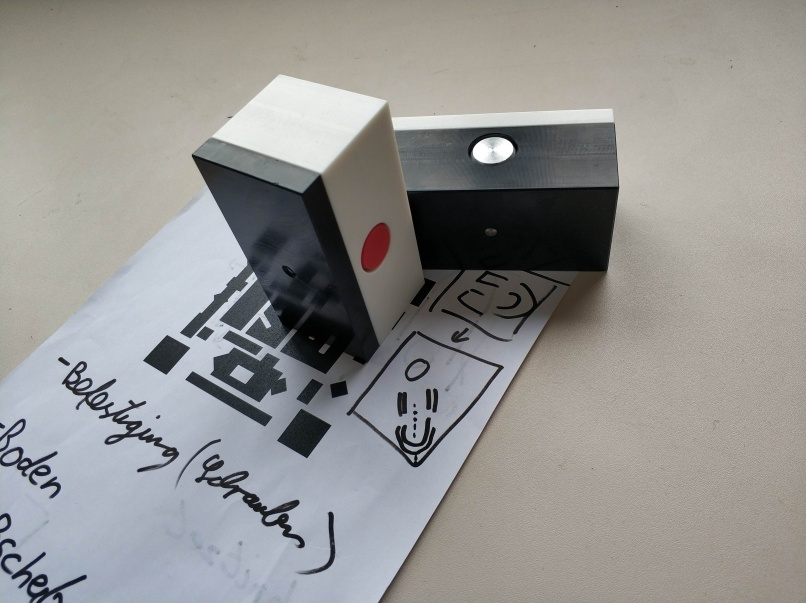black+white+red: (190, 71, 428, 365)
white+black+silver: (390, 106, 622, 275)
